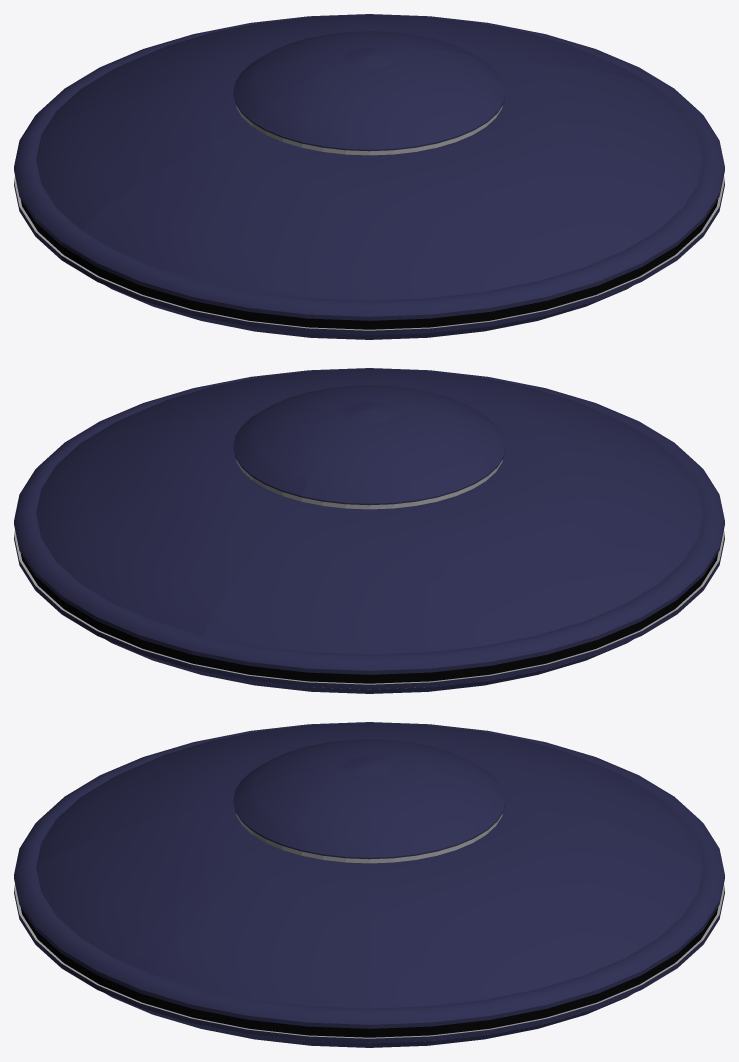
File: SpaceShip01.fbx
3 views of the same model, one above another, from view 1: azimuth 30°, elevation 25°; view 2: azimuth 150°, elevation 25°; view 3: azimuth 270°, elevation 25° (orthographic).
Parts seen in each view (by area): view 1: pCylinder8; view 2: pCylinder8; view 3: pCylinder8.
Part boxes in pixels (x1,y1,x2,y2): pCylinder8: (14,14,724,339); pCylinder8: (14,368,724,693); pCylinder8: (14,722,724,1047).
Size of the model in its own units: 13.76 by 3.75 by 13.76.
